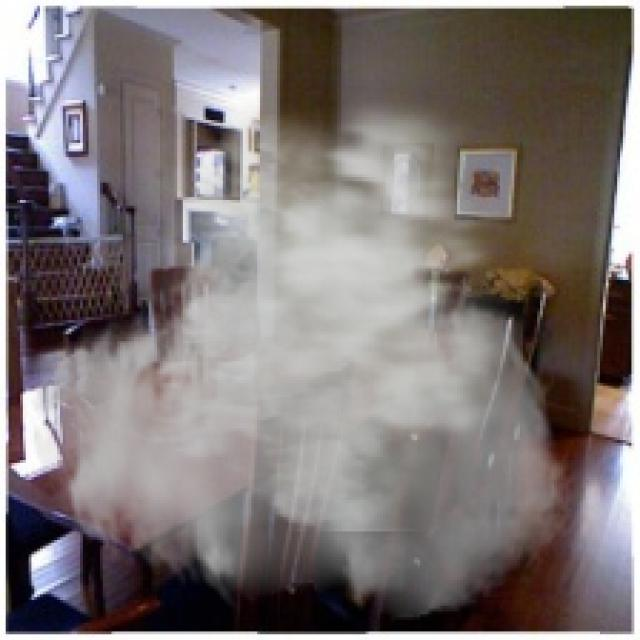smoke: (26, 74, 577, 623)
